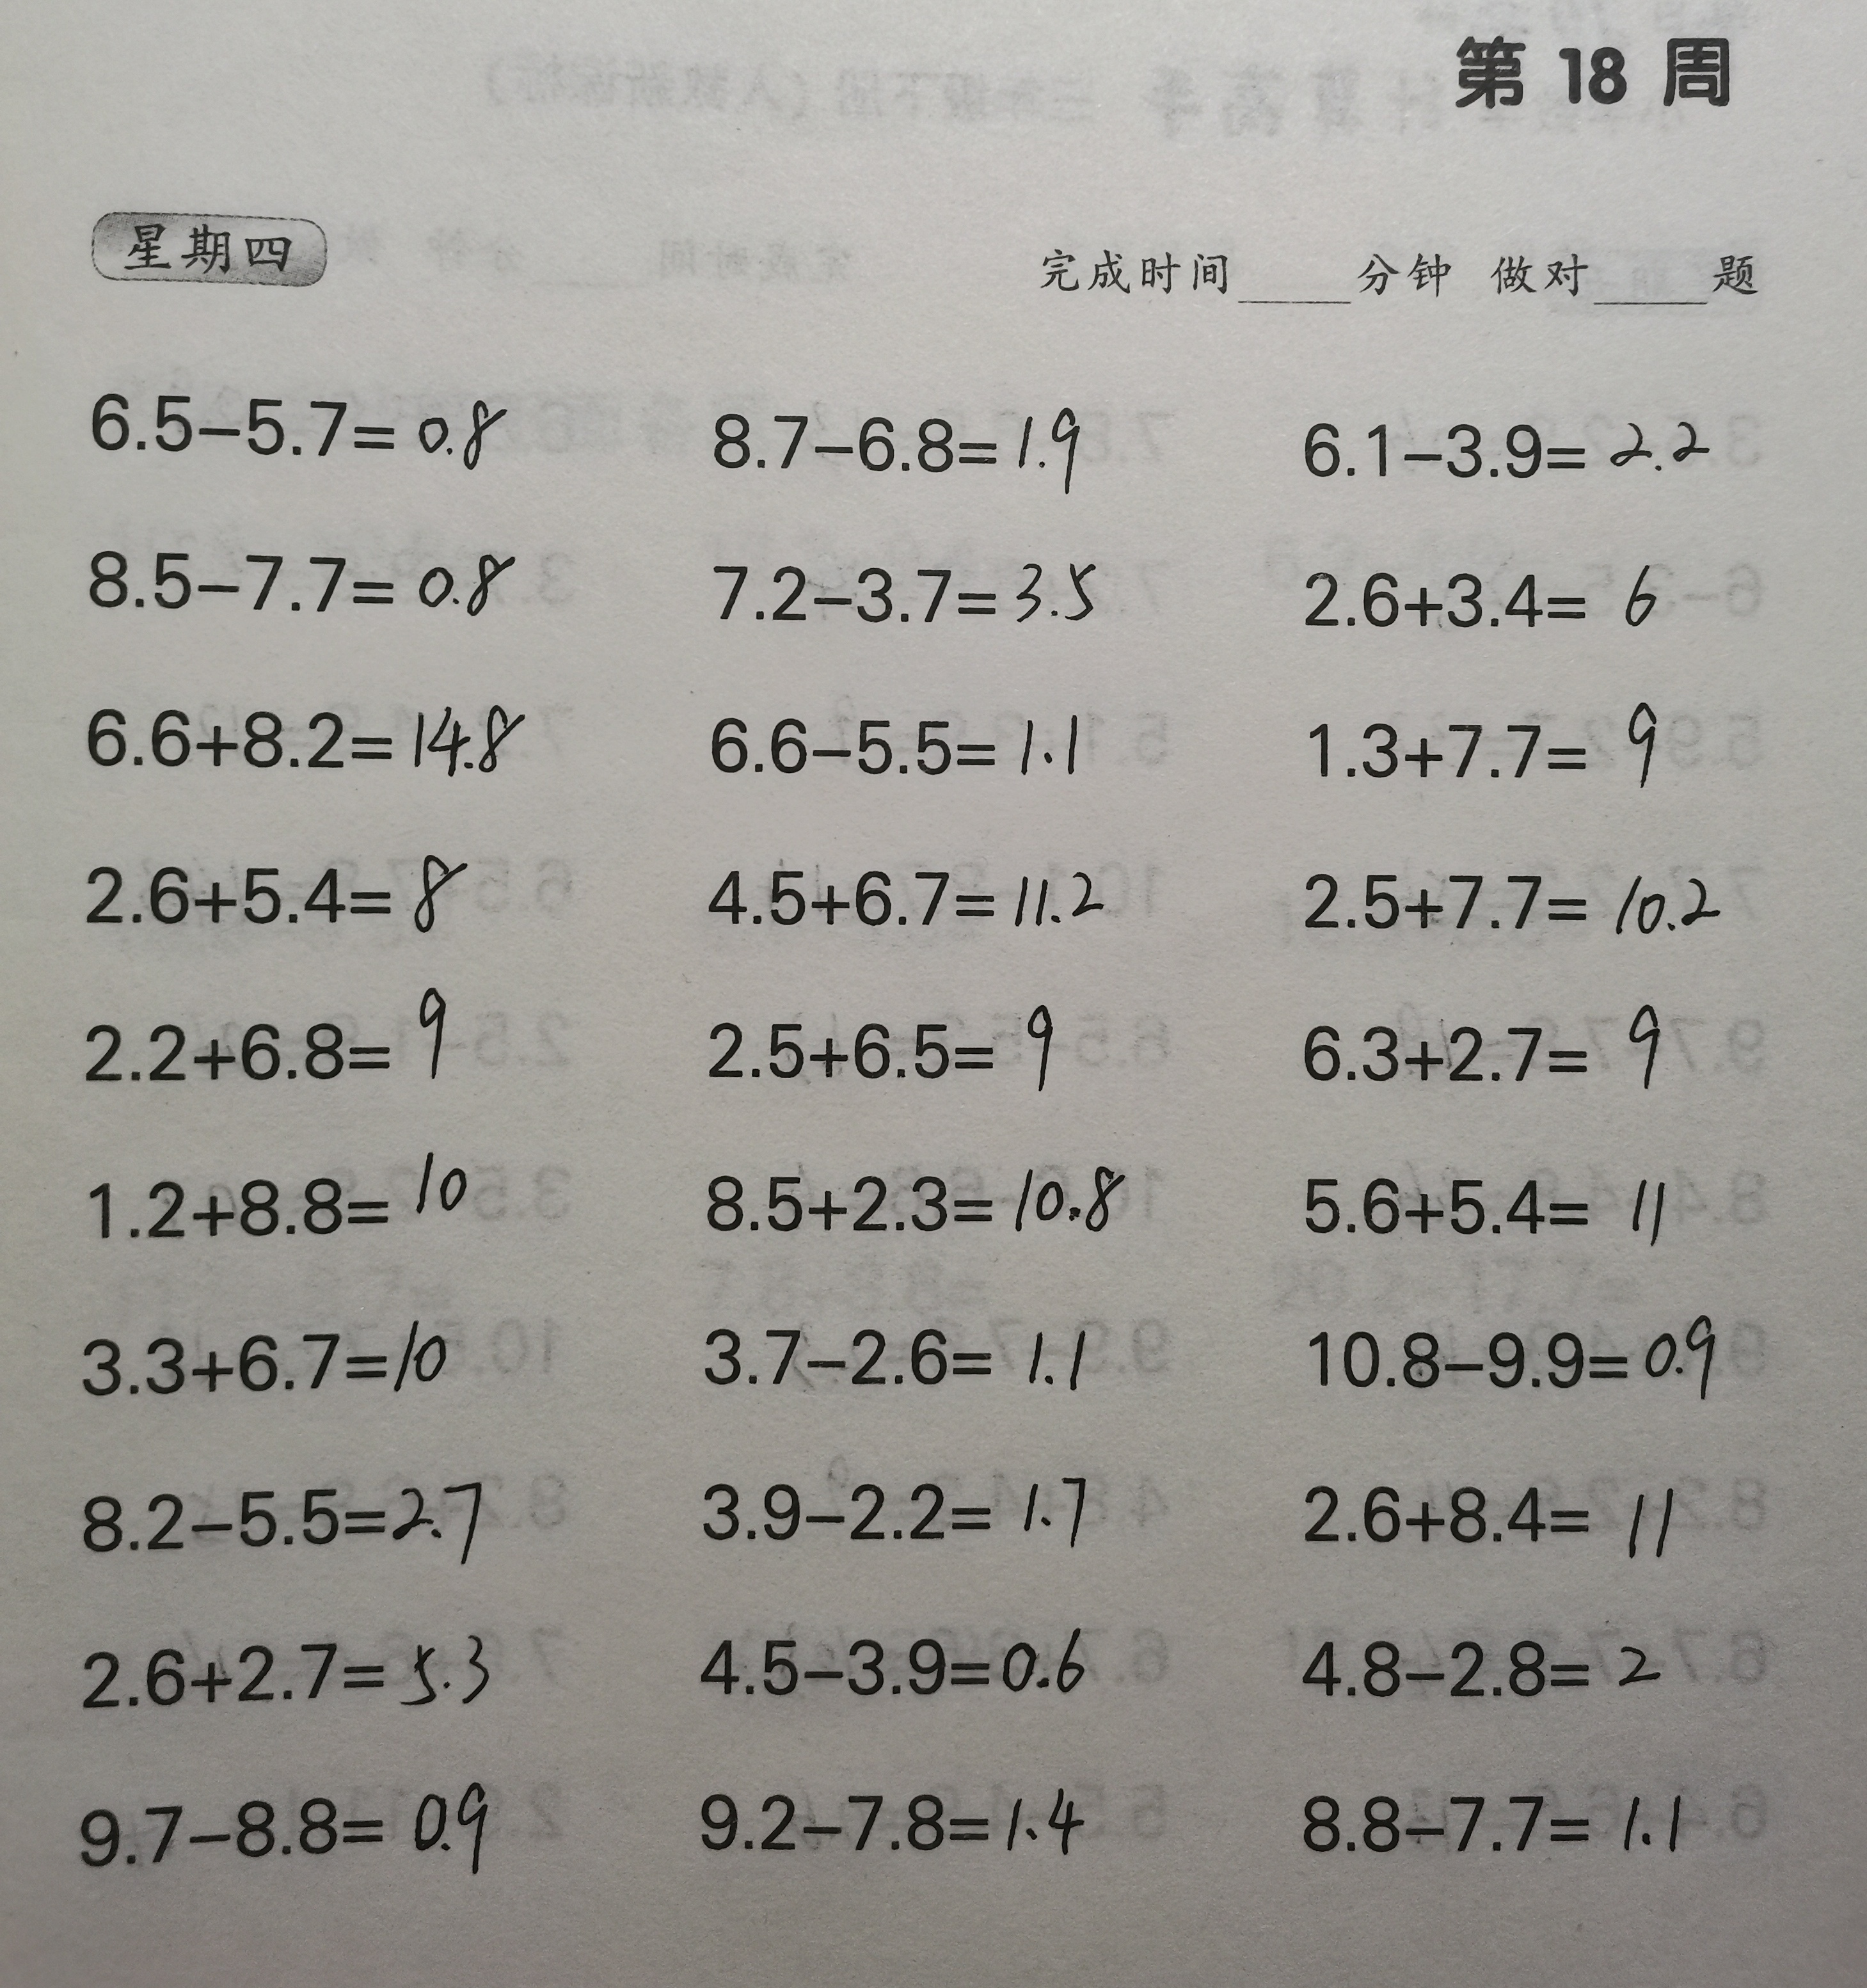equation: (72, 1763, 512, 1900), (67, 676, 546, 795), (1276, 1762, 1737, 1884), (1291, 825, 1746, 949), (695, 1442, 1118, 1572), (695, 1132, 1141, 1255), (56, 1453, 512, 1572), (1291, 381, 1744, 495), (68, 361, 511, 477), (700, 672, 1111, 797), (1284, 1446, 1704, 1567), (697, 835, 1132, 951), (1295, 1298, 1749, 1409), (74, 523, 526, 633), (63, 1614, 523, 1723), (693, 1295, 1130, 1409), (707, 361, 1098, 488), (65, 1305, 488, 1421), (65, 974, 463, 1097), (75, 825, 483, 944), (683, 1760, 1105, 1870), (84, 1137, 493, 1249), (1284, 533, 1679, 649), (1293, 1153, 1700, 1265), (1293, 681, 1685, 797), (690, 1609, 1111, 1716), (698, 983, 1076, 1102), (1290, 1607, 1697, 1714), (1293, 988, 1681, 1098), (705, 528, 1114, 632)
